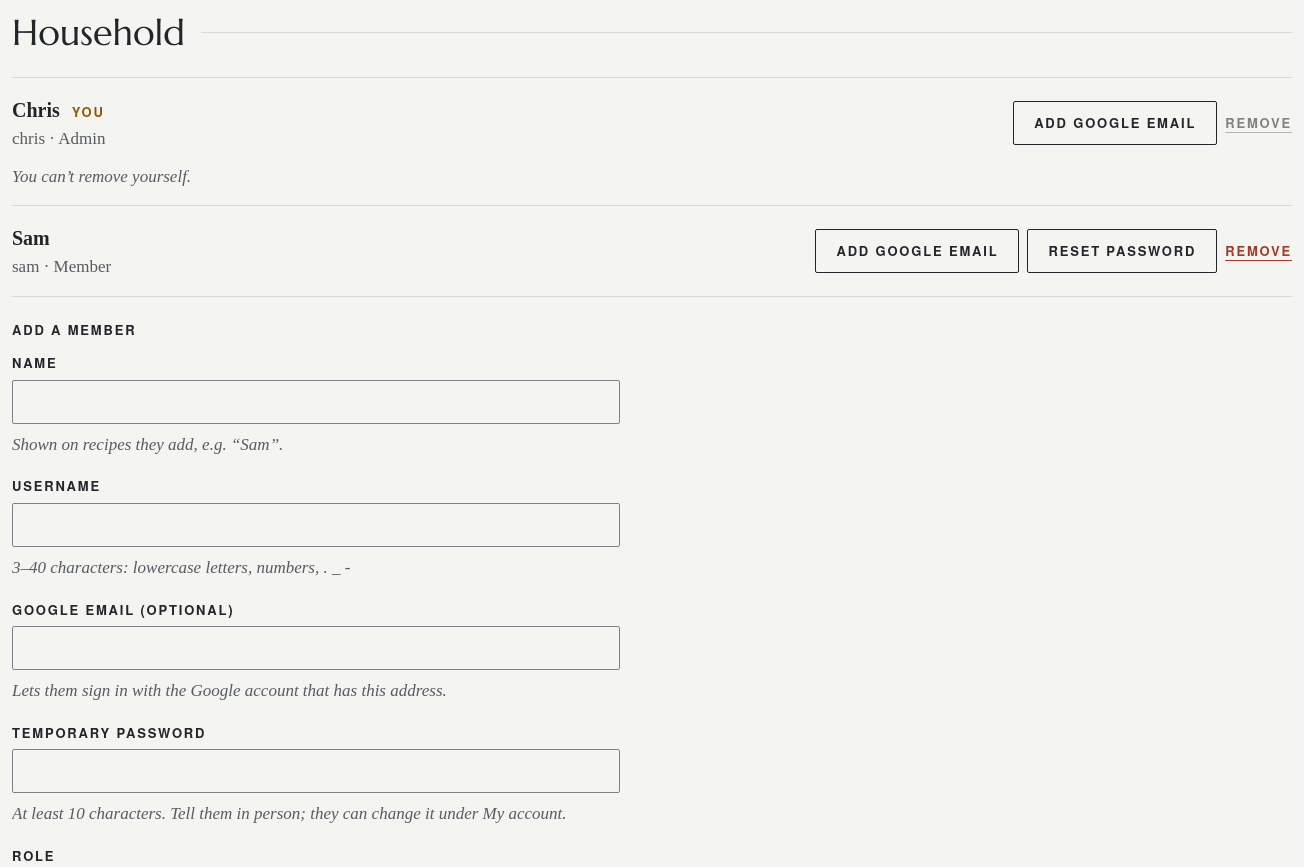
Test: HouseholdSection › asks for confirmation naming the person, then deletes
Step 1. Click the button with aria-label "Remove Sam" → point(1259, 251), box [1225, 229, 1292, 273]
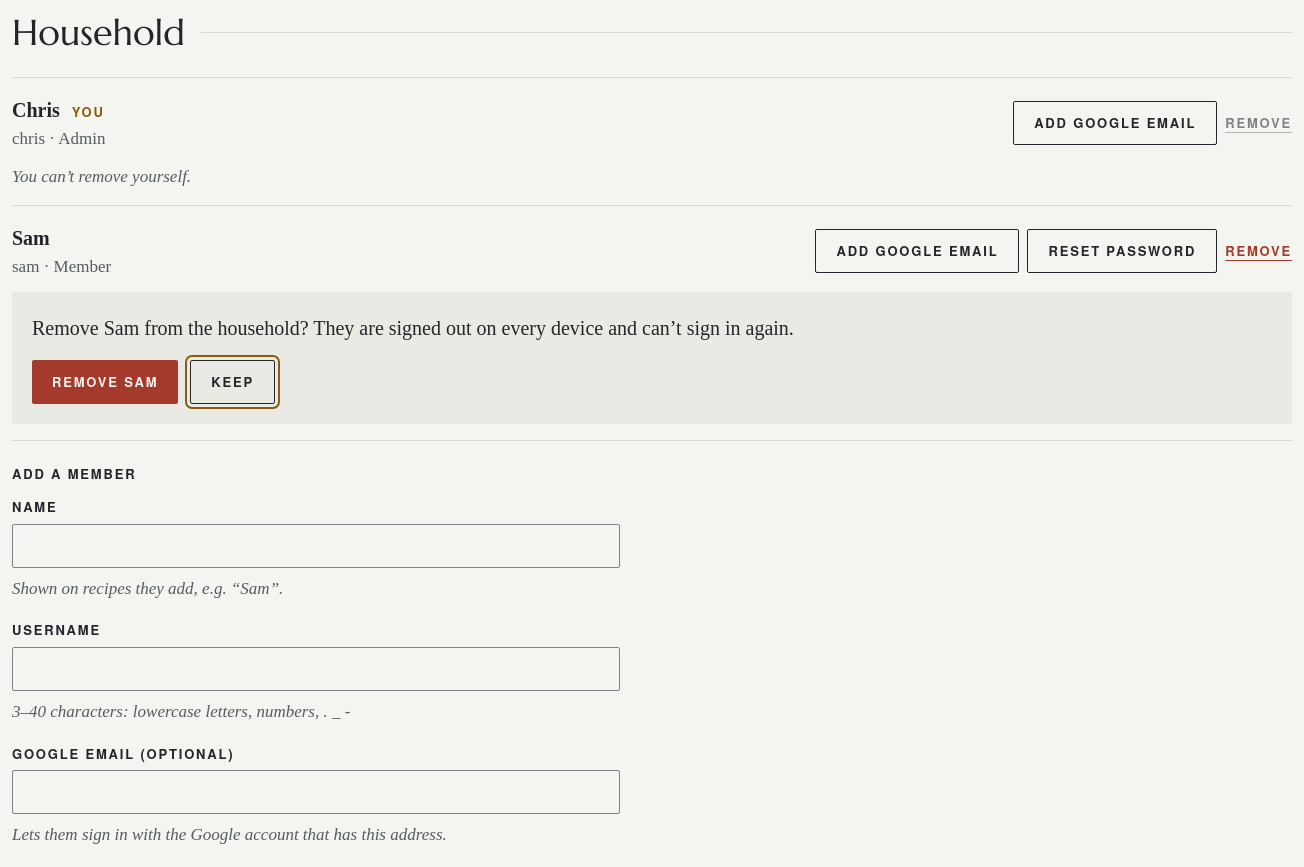
Now the element named "Confirm" shows "Remove Sam from the household?", box [12, 292, 1292, 424]
Step 2. Click the button "Remove Sam" → point(105, 382), box [32, 360, 178, 404]
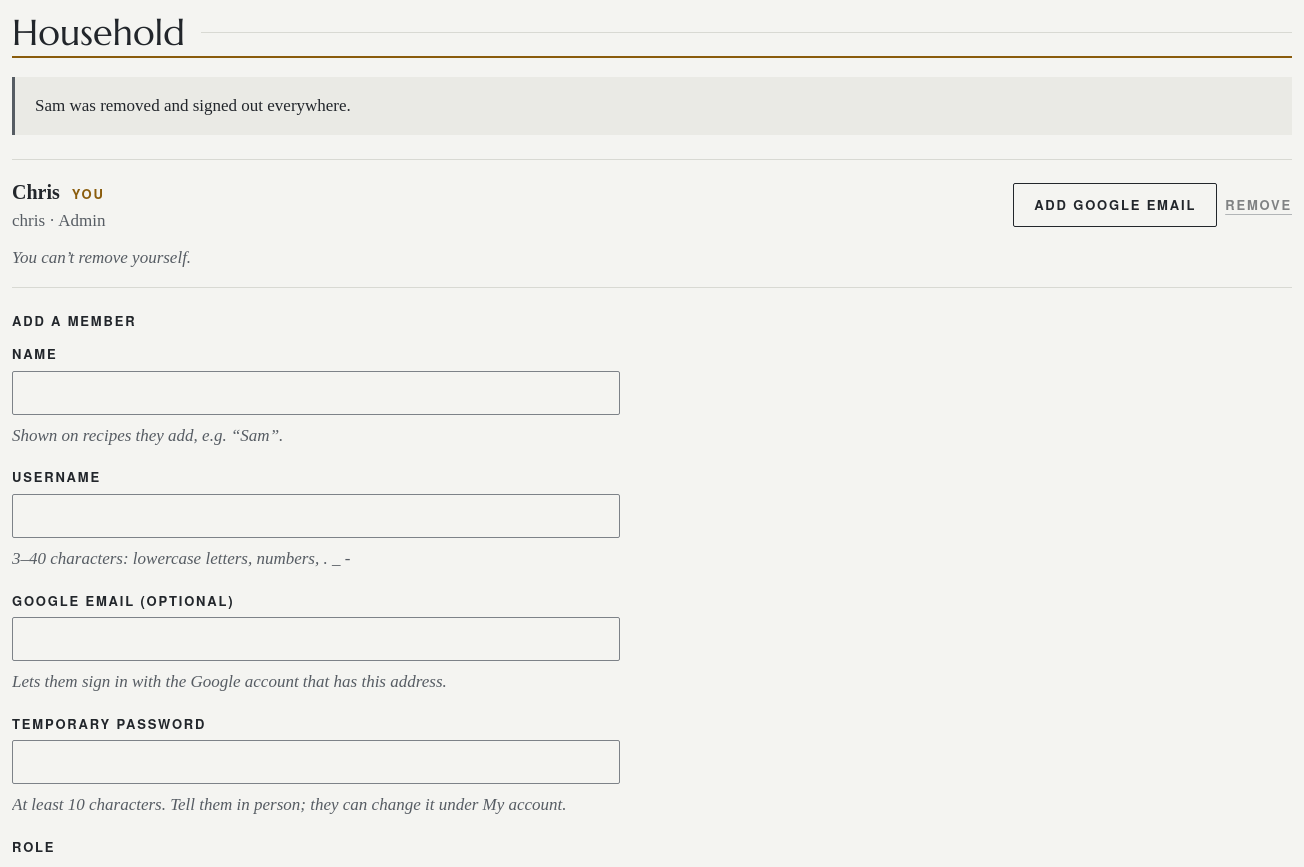
Now the list "Household members" no longer shows "Sam"
